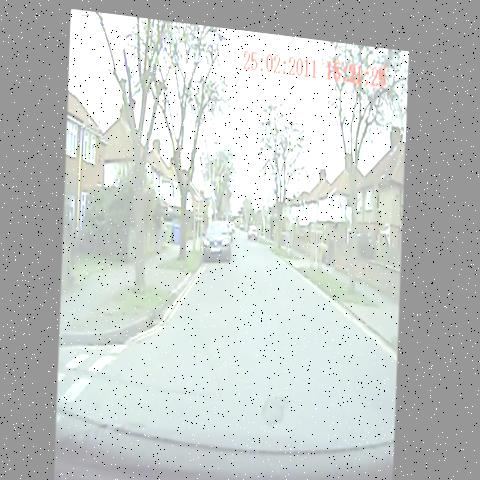pothole: (257, 376, 302, 429)
